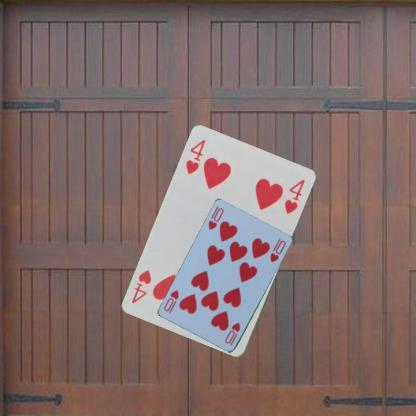10h: (223, 320, 242, 347), (206, 205, 225, 232)
4h: (183, 137, 208, 176)
